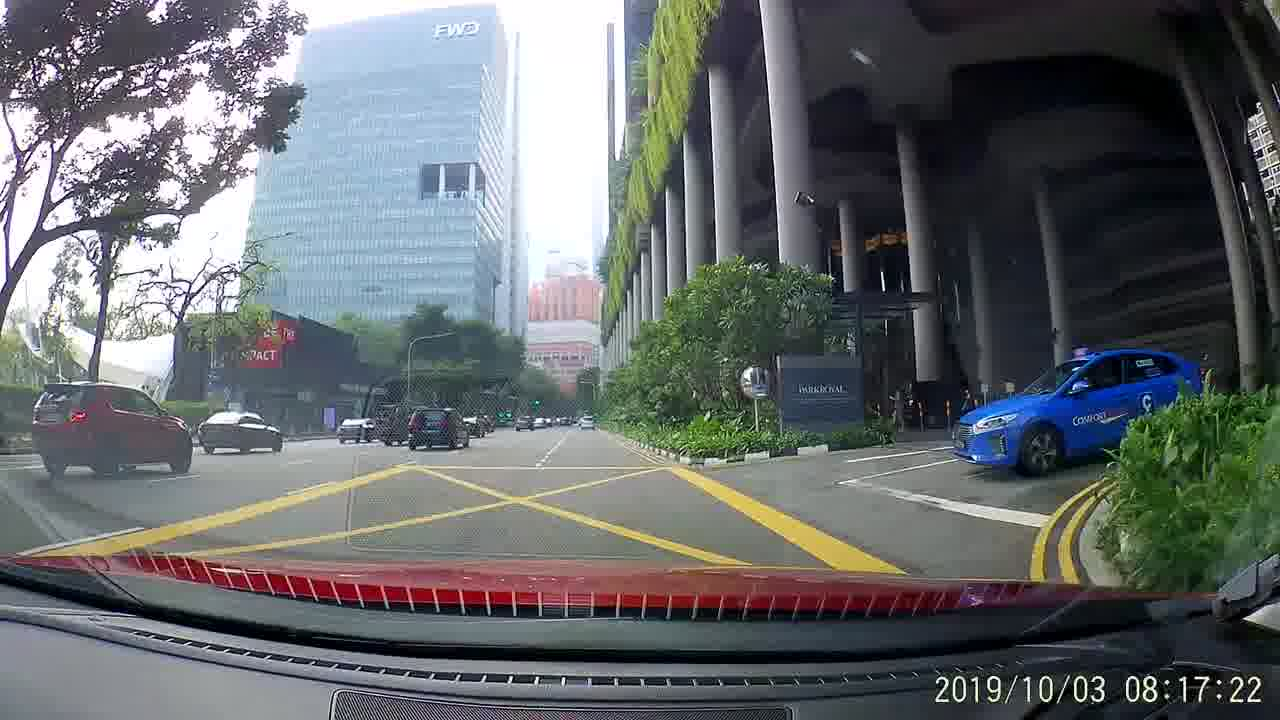car: (946, 356, 1213, 472), (27, 376, 196, 482), (197, 409, 286, 457), (411, 403, 473, 457), (334, 415, 378, 444), (513, 408, 536, 430), (579, 413, 598, 433)
